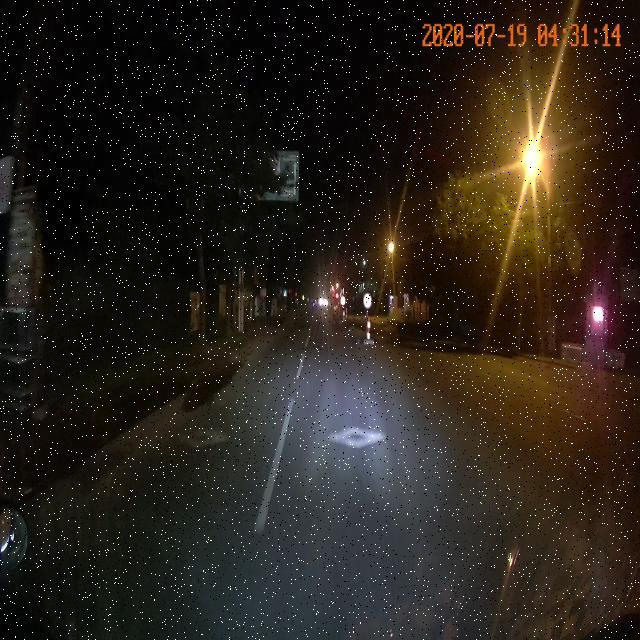diamond: (275, 424, 491, 454)
